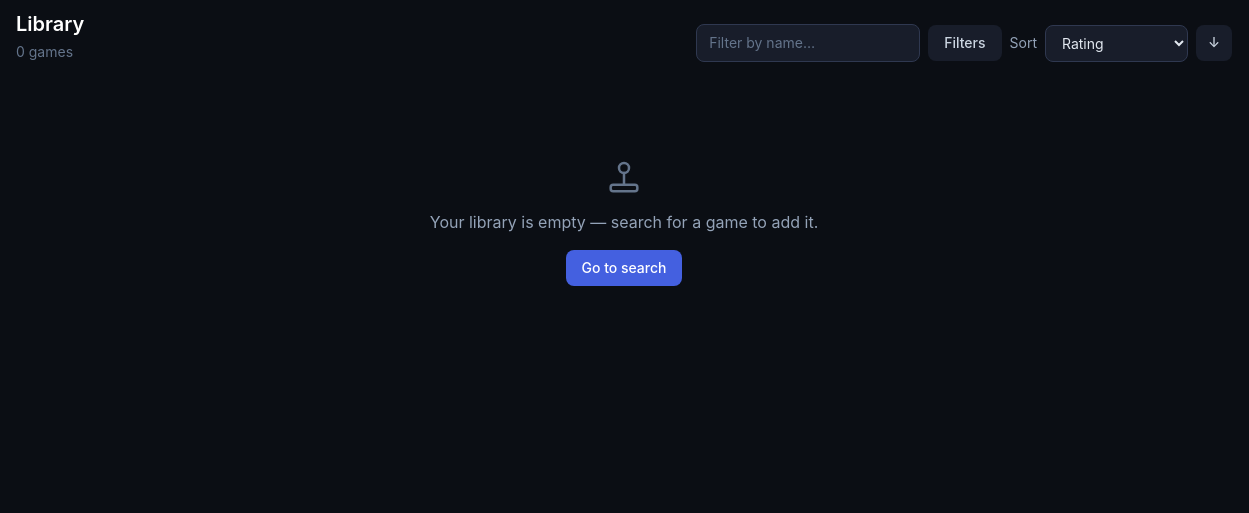
Scenario: Library — header, filters UI and empty states › counts active filters and offers Clear all only then
Click the button "Filters" at (965,43), box left=928, top=25, right=1002, bottom=61
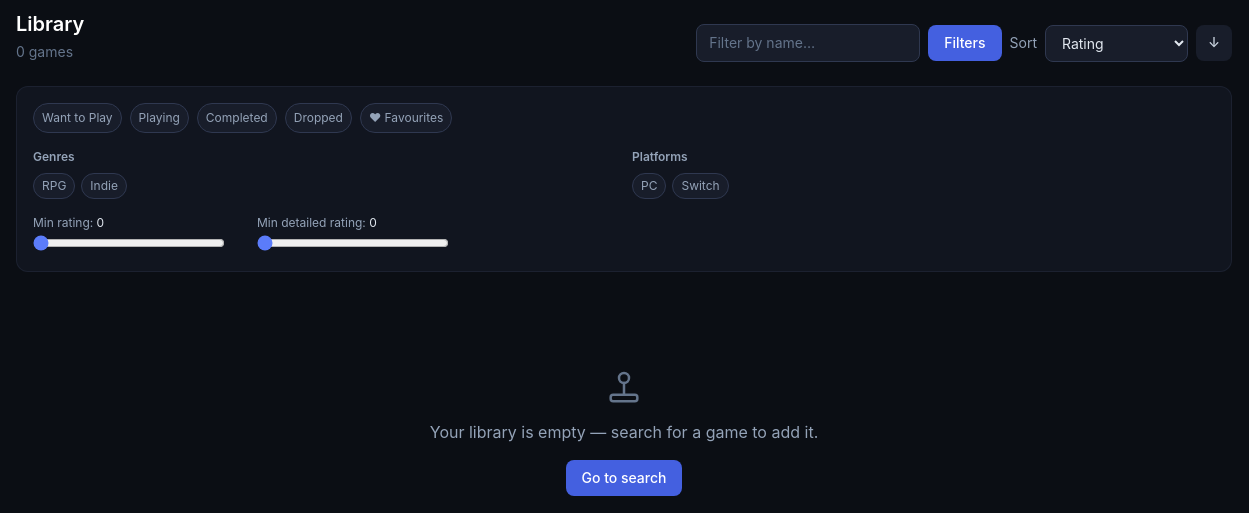
Expected: the button "Clear all" is not shown
Click the button "Playing" at (159,118), box left=130, top=103, right=189, bottom=133
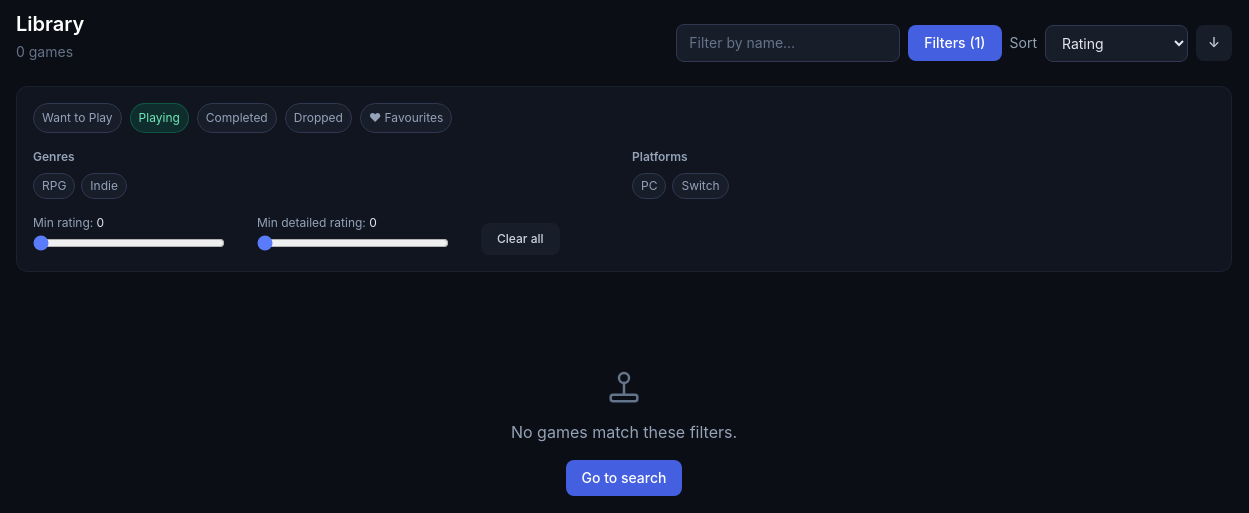
Click the button "♥ Favourites" at (406,118), box left=360, top=103, right=452, bottom=133
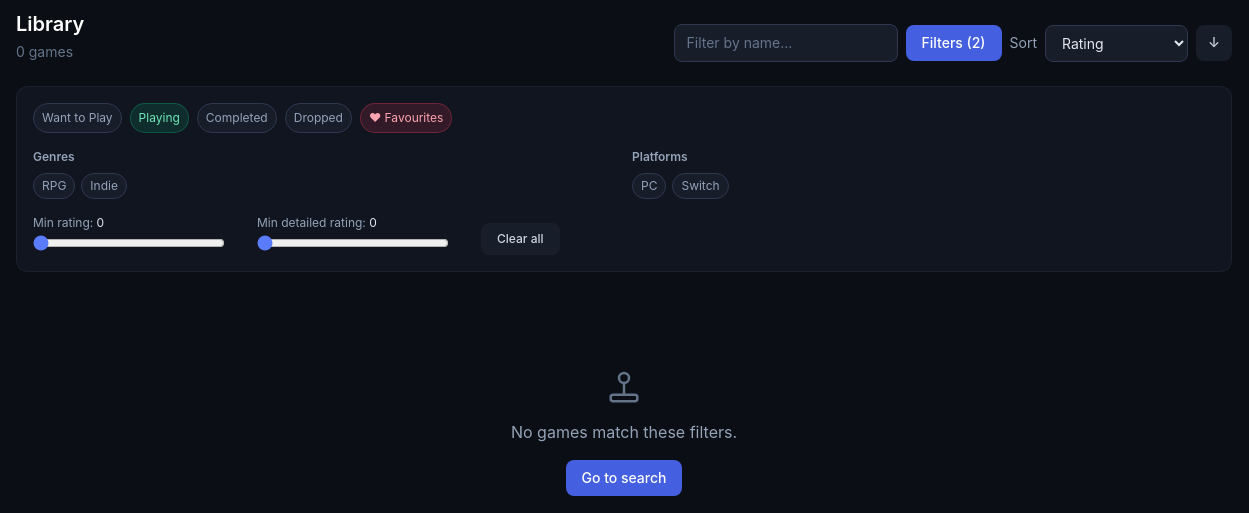
Click the button "RPG" at (54,186), box left=33, top=173, right=75, bottom=199
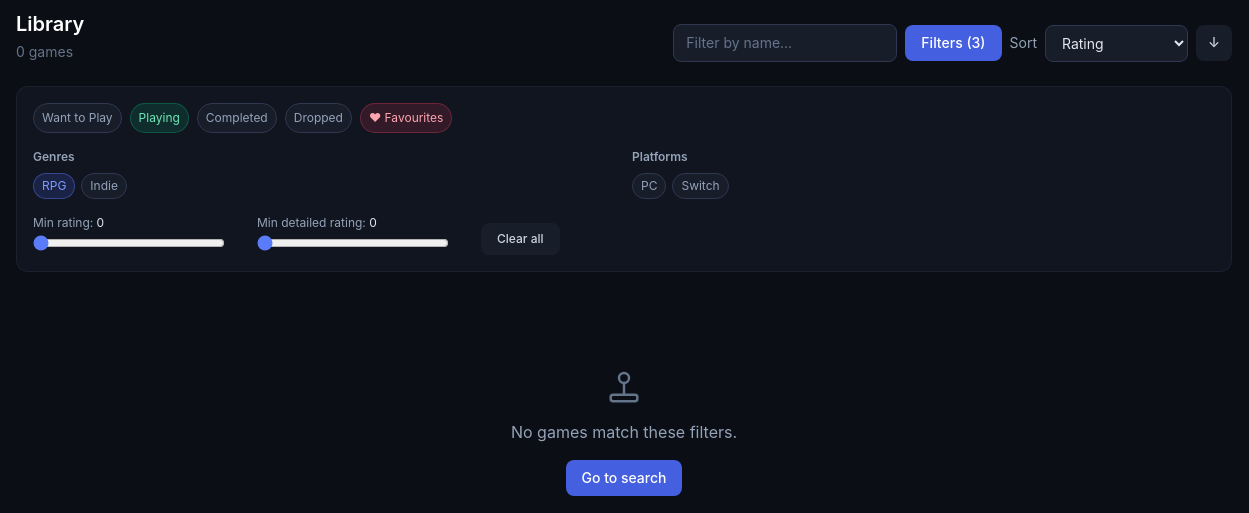
Now the button "Clear all" is shown
Now the button "Filters (3)" is shown, box left=905, top=25, right=1002, bottom=61
Click the button "Clear all" at (520,239), box left=481, top=223, right=560, bottom=255
Wait 200 ms
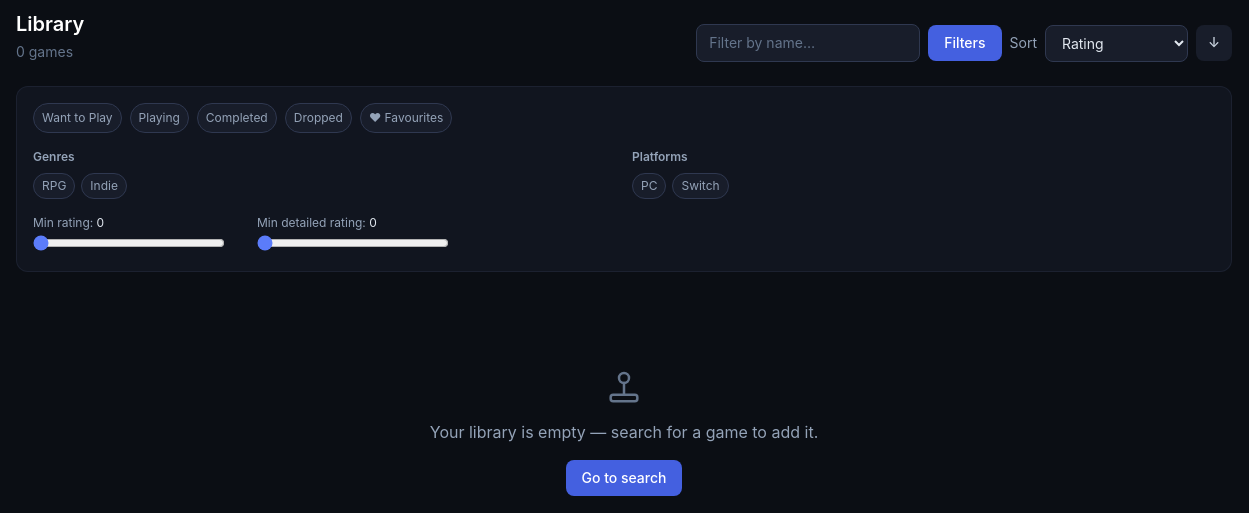
Now the button "Filters" is shown, box left=928, top=25, right=1002, bottom=61
